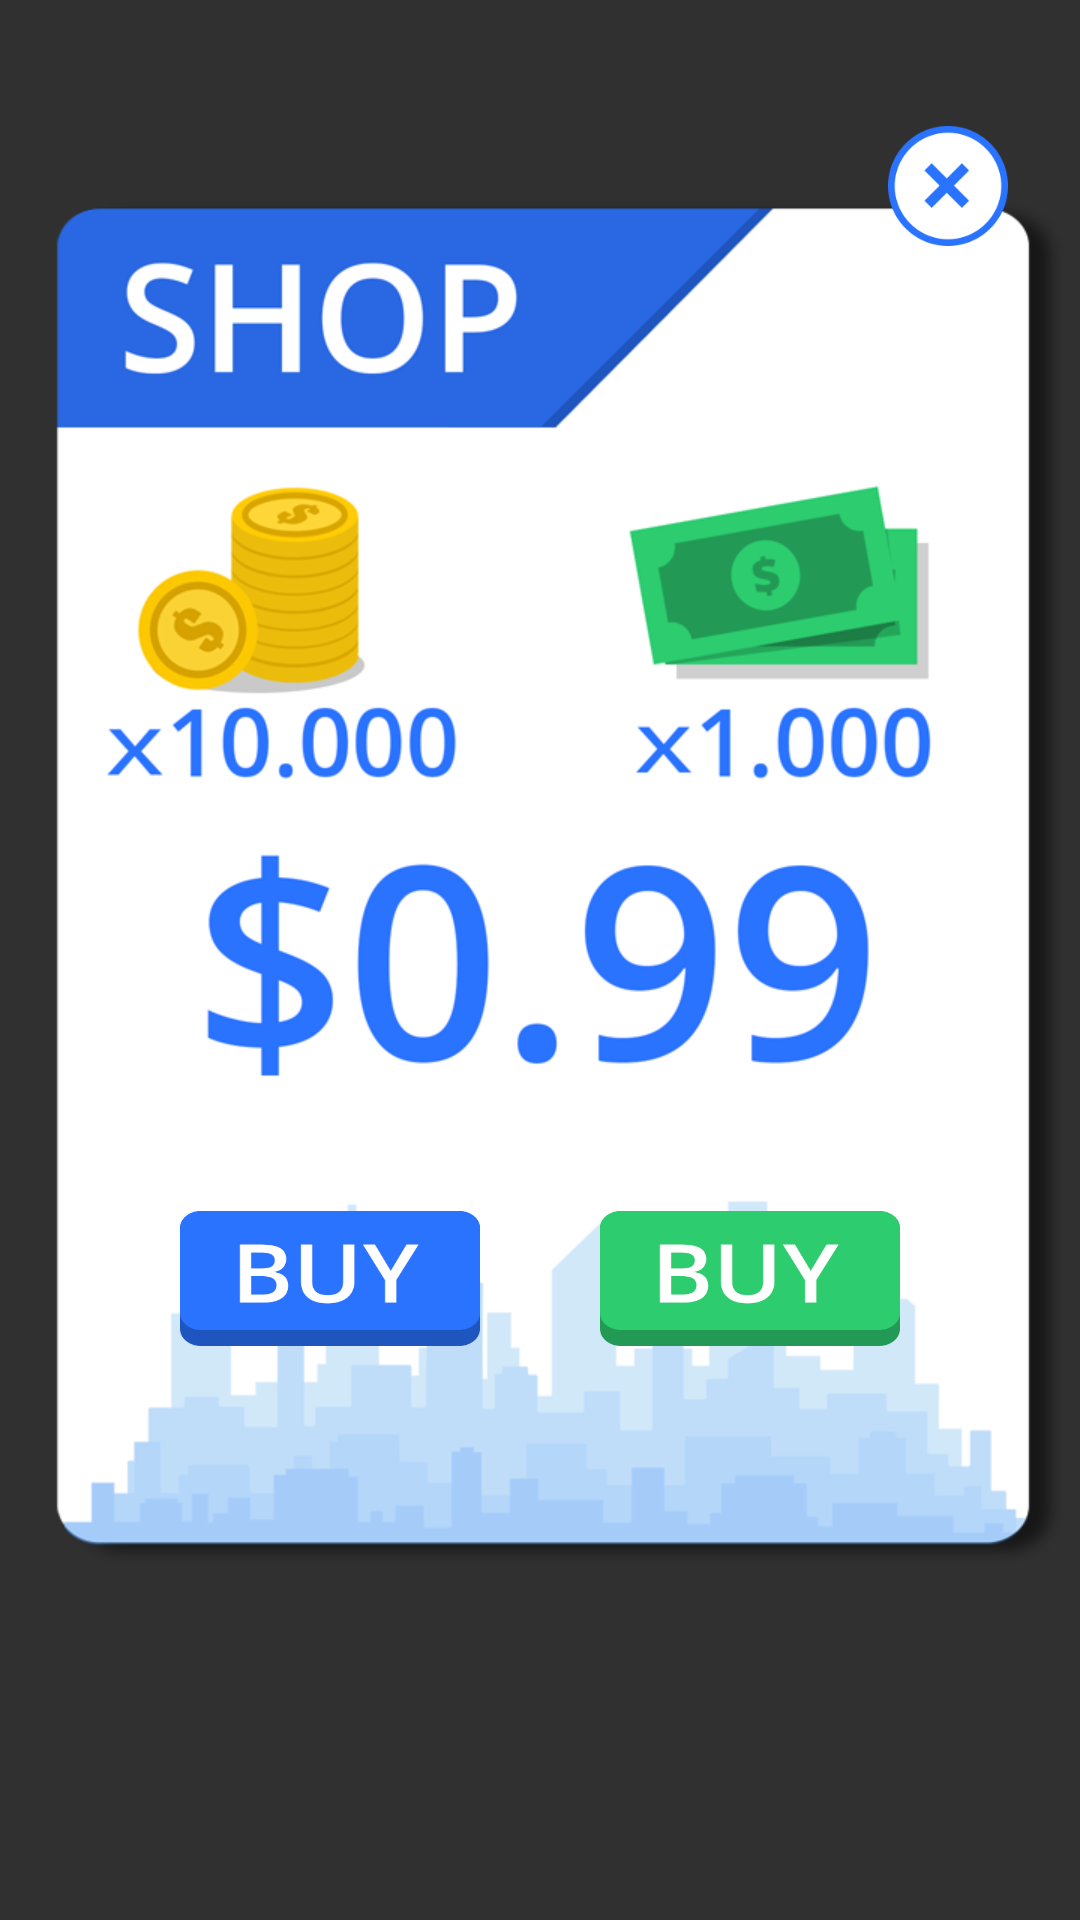

Icons on this 1080x1920 Android screen, each with its box as (x1, y1, x2, y2):
exit: (888, 126, 1008, 246)
